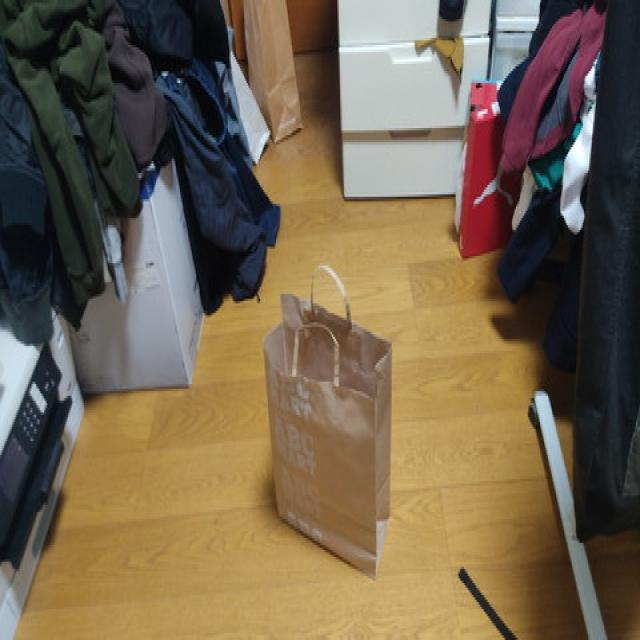paper bag: (261, 260, 398, 580)
